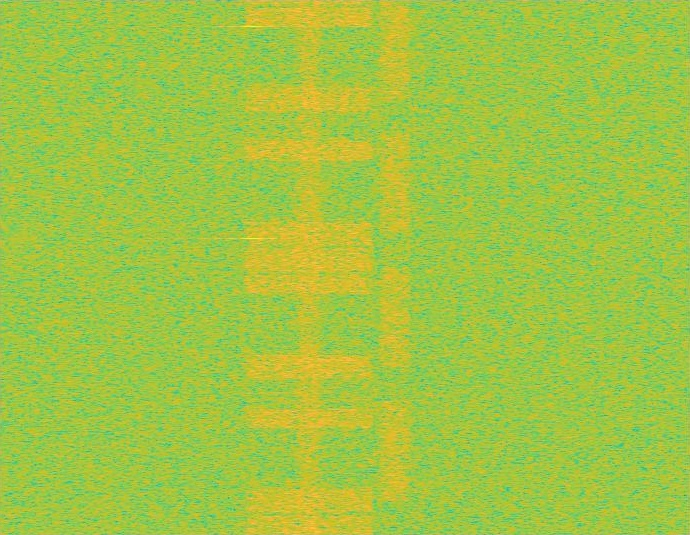5G: (378, 0, 413, 534)
DSSS: (293, 0, 325, 534)
LTE: (240, 0, 378, 534)
Radar: (245, 0, 259, 534)
